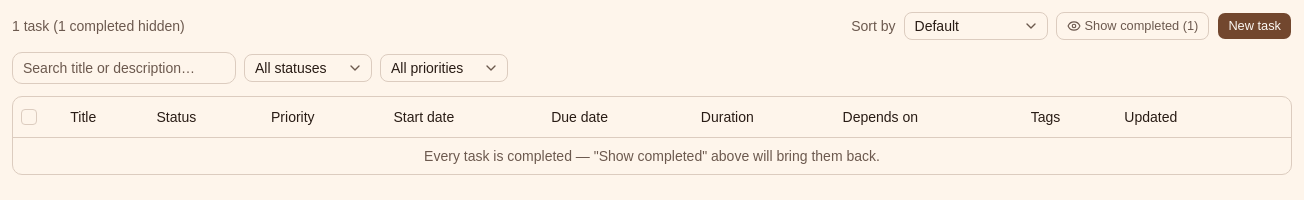
search › promotes a matching subtask when its parent is filtered out entirely
Type "firewall" into the field with placeholder "Search title or description…".
click(124, 68); type("firewall")  # box [12,52,236,84]
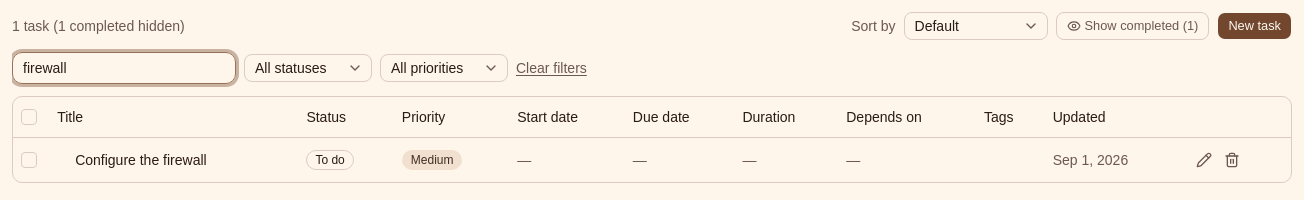
Now the text "Configure the firewall" is shown, box [75,152,207,168]
